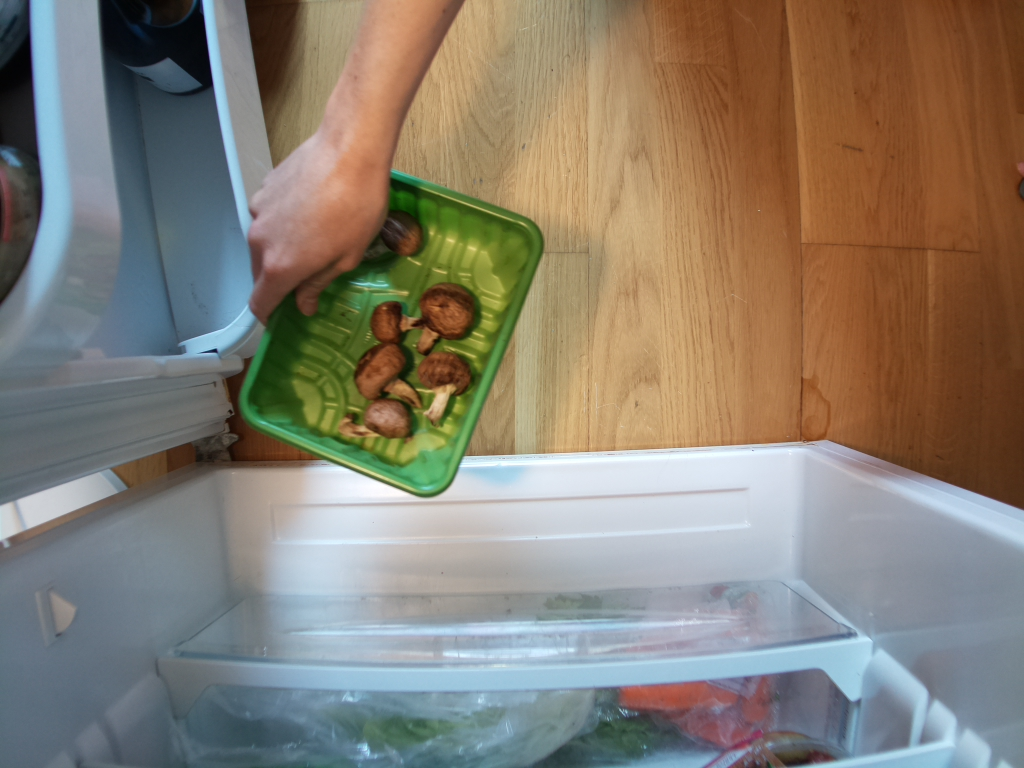mushrooms-bad: (239, 163, 550, 495)
